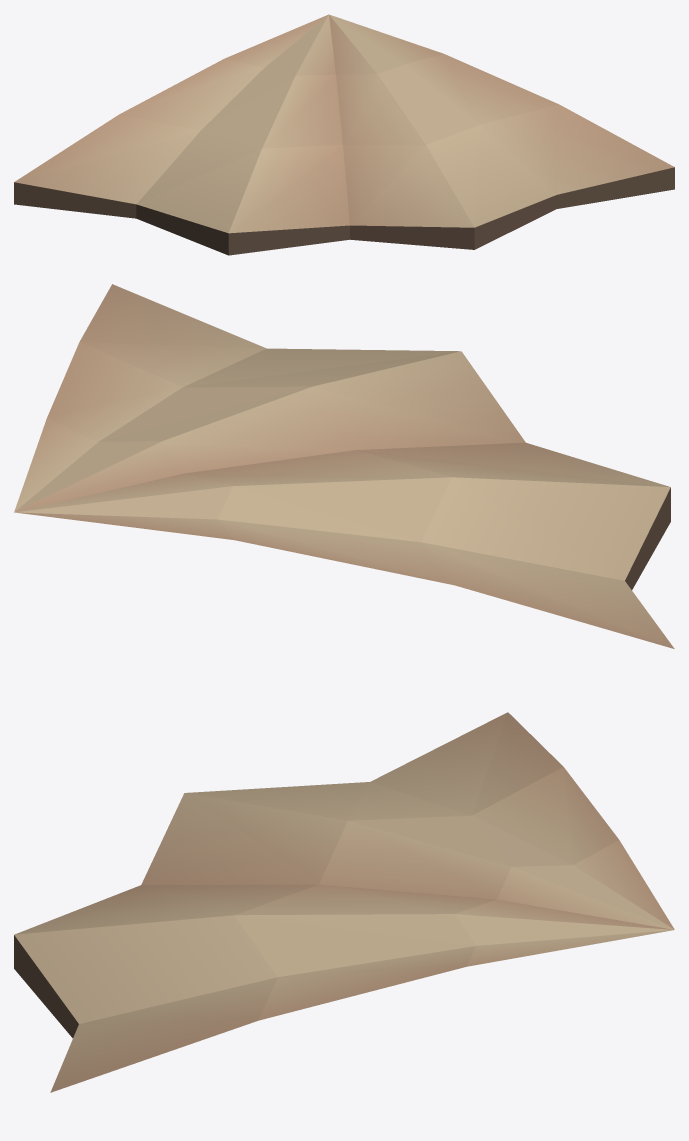
File: beach-shell-chip-v1.glb
3 renders of one model, top to bottom at view 1: azimuth 30°, elevation 25°; view 2: azimuth 150°, elevation 25°; view 3: azimuth 270°, elevation 25°, orthographic. The views are drawn at different scales.
Parts seen in each view (by area): view 1: beach-shell-chip-v1; view 2: beach-shell-chip-v1; view 3: beach-shell-chip-v1.
Part boxes in pixels (x1,y1,x2,y2): beach-shell-chip-v1: [14, 14, 674, 255]; beach-shell-chip-v1: [14, 284, 674, 648]; beach-shell-chip-v1: [14, 712, 674, 1092].
Size of the model in its own units: 0.6095 by 0.0683 by 0.4471.
